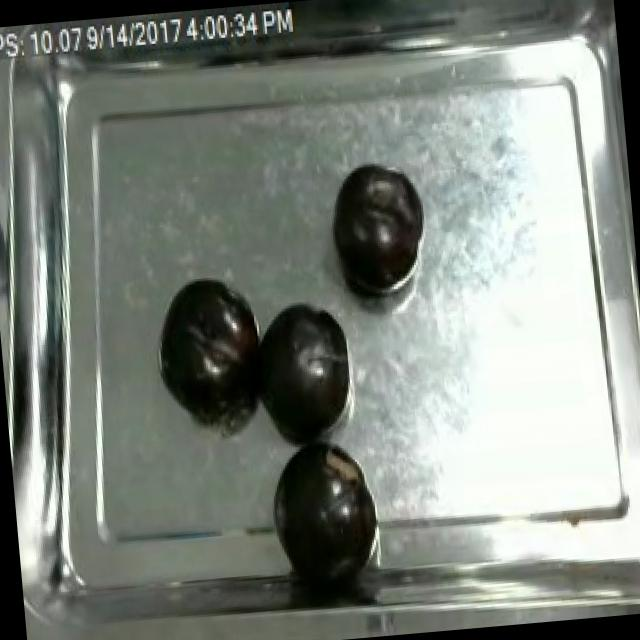Fruit: (234, 293, 359, 451), (146, 268, 268, 429), (260, 435, 386, 586), (320, 156, 432, 304)
